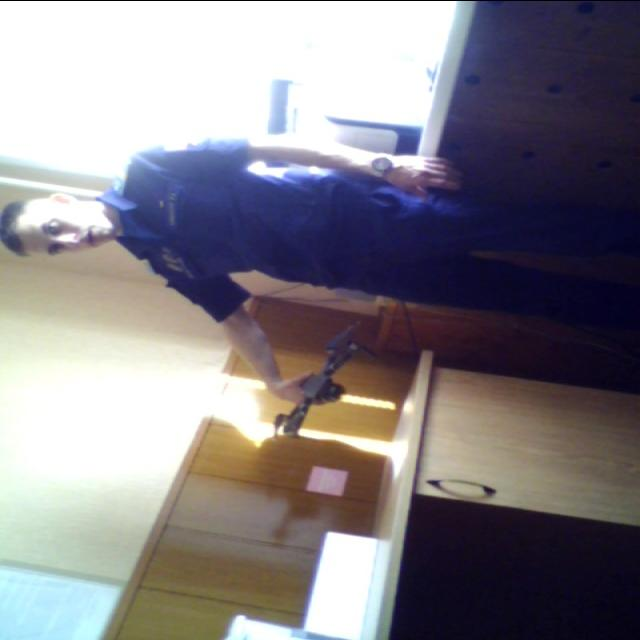drone: (256, 324, 385, 444)
